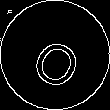O_NE: (23, 22, 87, 88)
